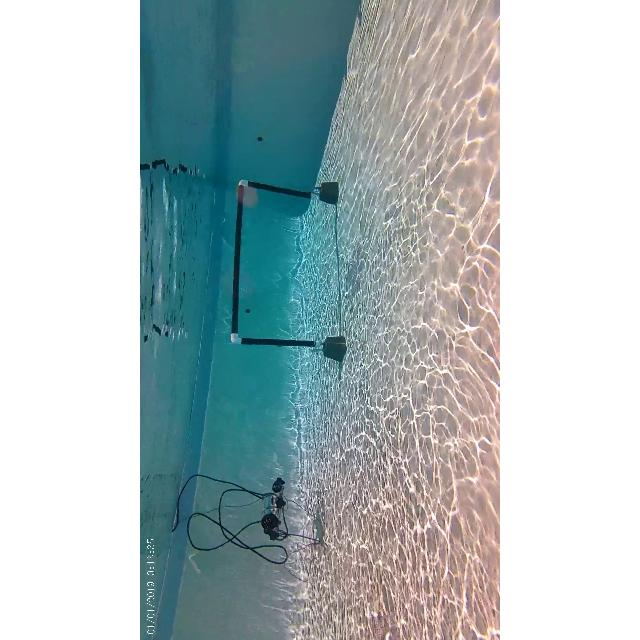prequal gate: (231, 180, 321, 348)
prequal gate leg l: (230, 331, 328, 351)
prequal gate leg r: (234, 174, 316, 200)
